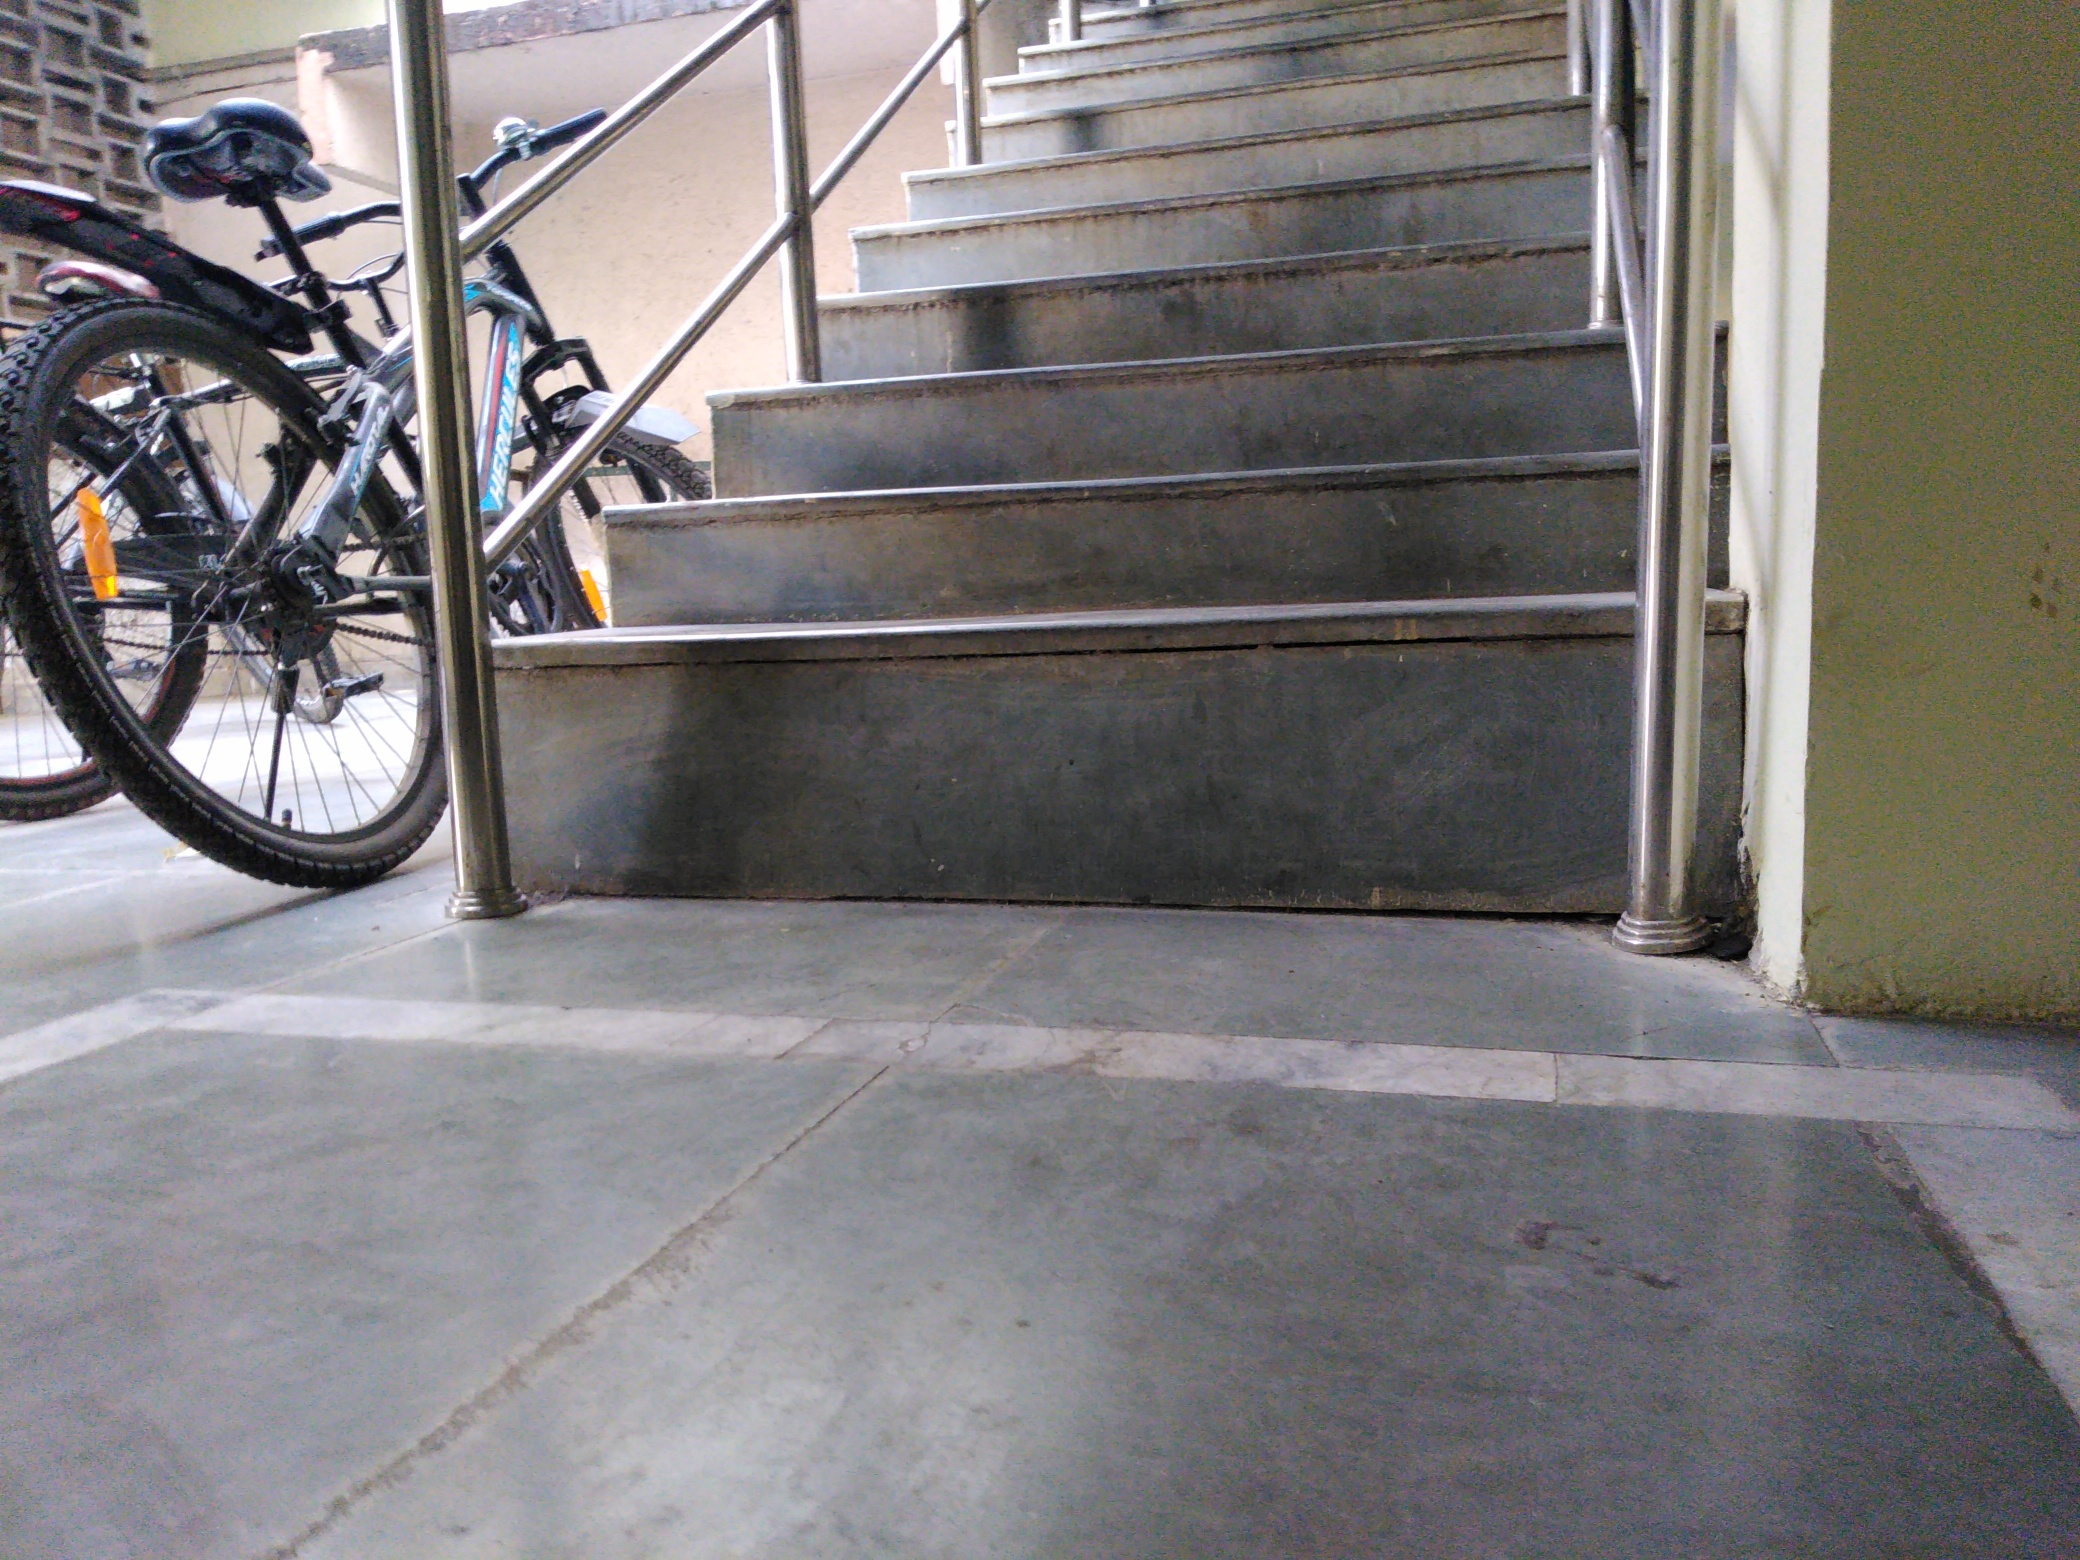stairs_up: (657, 2, 1571, 891)
